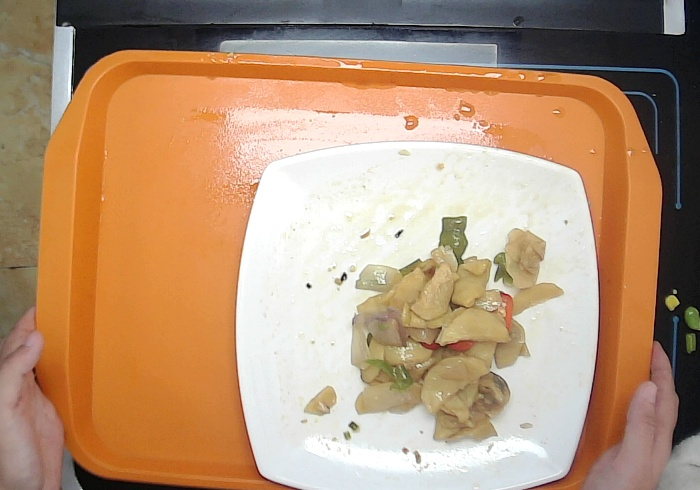ZNLD-Bai_Fang_Pan: (228, 127, 609, 490)
